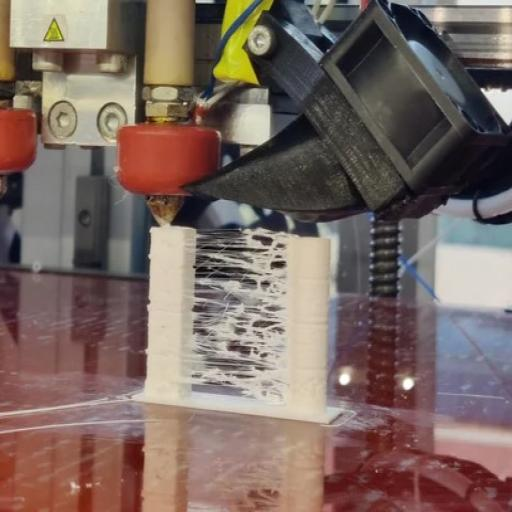stringing: (178, 221, 304, 409)
